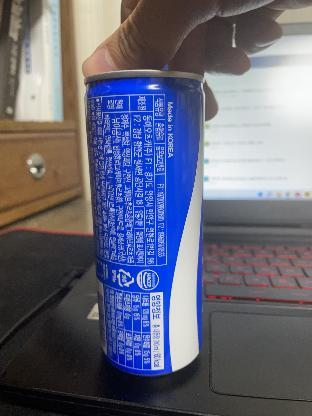Can: (82, 70, 204, 376)
